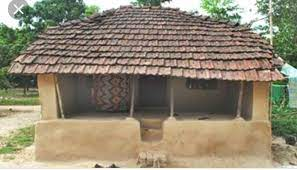Mud House: (16, 15, 281, 161)
